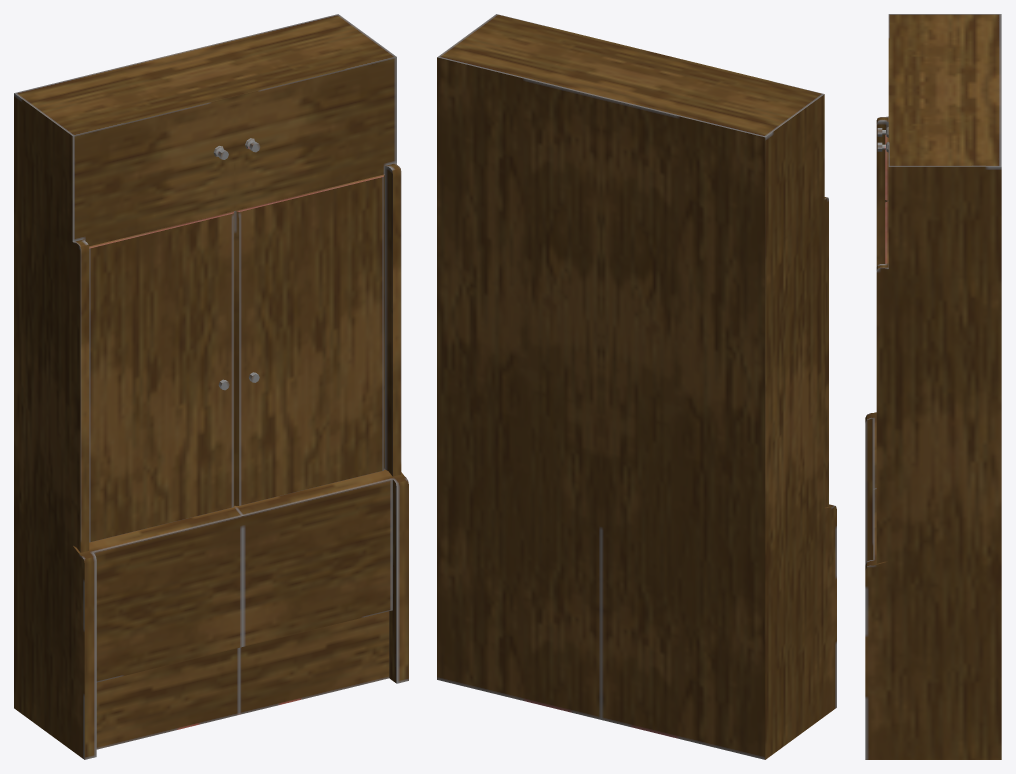
Rendered from shelf2.glb.
3 renders of one model, left to right at view 1: azimuth 30°, elevation 25°; view 2: azimuth 150°, elevation 25°; view 3: azimuth 270°, elevation 25°, orthographic. The views are drawn at different scales.
Visible parts, largest first — view 1: Cube.004; view 2: Cube.004; view 3: Cube.004.
Boxes of the visible parts, left/top/right/bottom form: Cube.004: left=14, top=14, right=408, bottom=759; Cube.004: left=437, top=14, right=836, bottom=759; Cube.004: left=865, top=14, right=1001, bottom=759.
Bounding box in the file's own units: 1.6 × 2.9 × 0.6035.
1 material, 1 textured.
